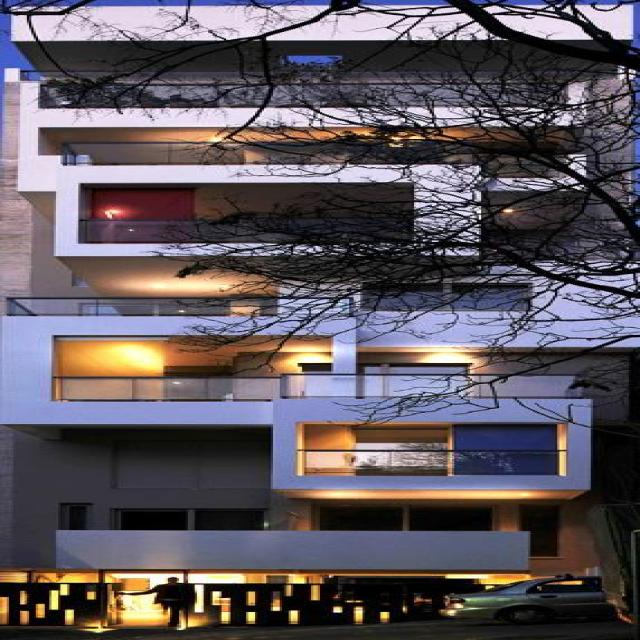Railing: (66, 141, 564, 175), (52, 377, 600, 398), (51, 84, 570, 105), (300, 449, 570, 474), (92, 220, 416, 239), (12, 297, 347, 315)
plant: (45, 0, 638, 422)
wall: (1, 3, 638, 624)
windows: (318, 504, 492, 532), (367, 284, 532, 309), (121, 510, 275, 530), (523, 506, 559, 556), (60, 502, 94, 530), (356, 366, 474, 374), (356, 442, 454, 449), (303, 366, 331, 374)
